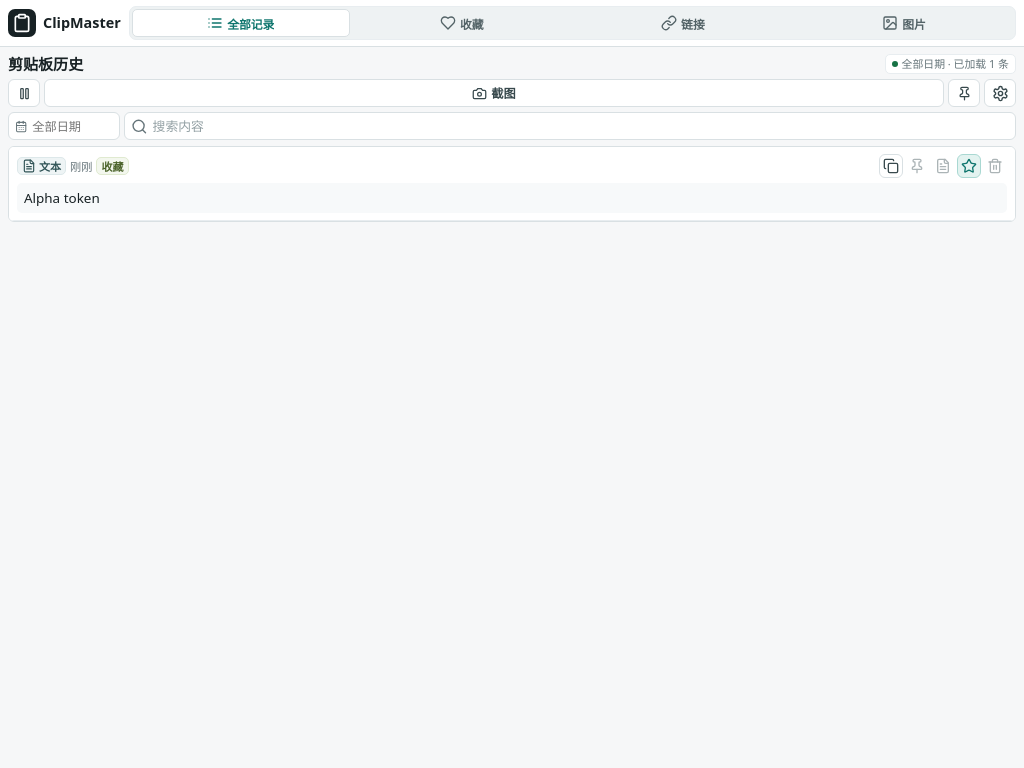
Scenario: App UI › asks for confirmation before deleting favorite records
This screenshot has width=1024, height=768.
Expected: the button "Alpha token" is shown, [17,183,1007,213]
Click the button named "删除 Alpha token".
click(995, 166)  # box [983,154,1007,178]
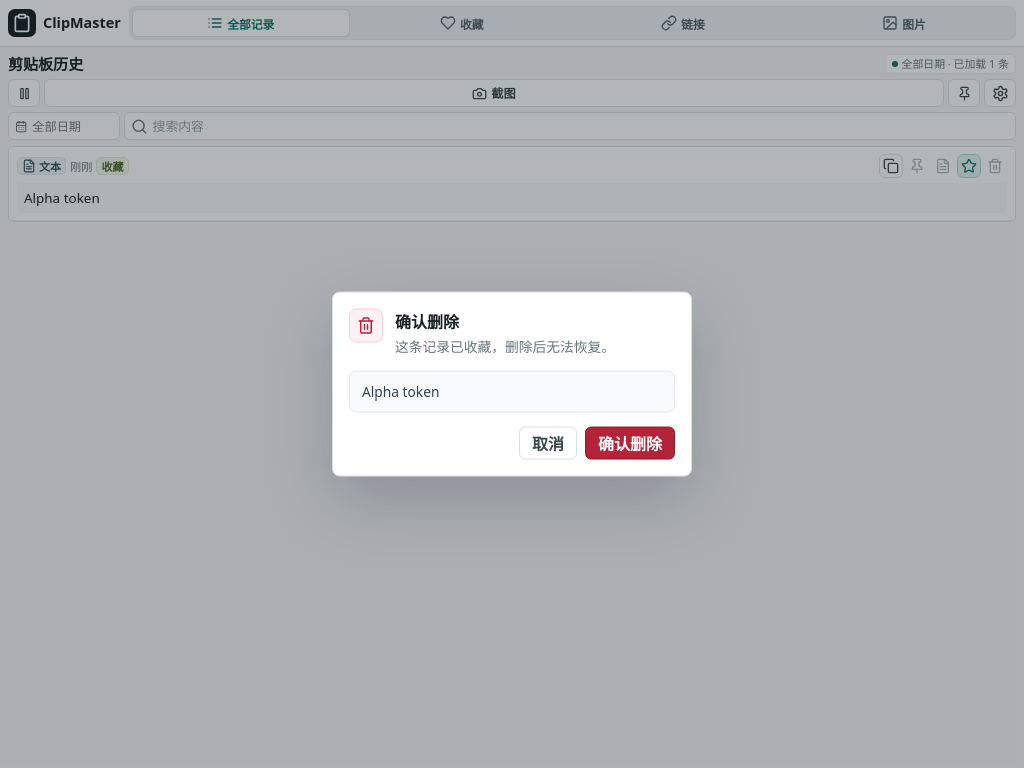
Expected: the text "已收藏" is shown, [395,336,615,356]
